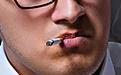smoke: (46, 37, 64, 46)
